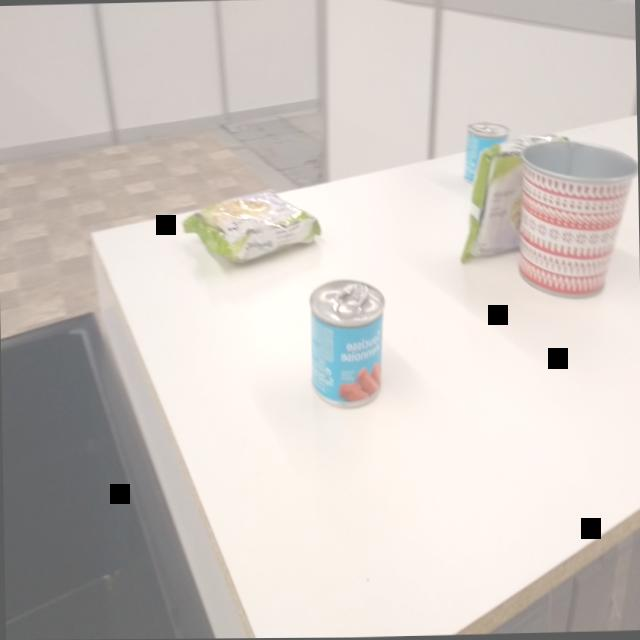noodles: (175, 180, 325, 271)
sausages: (304, 275, 388, 417)
